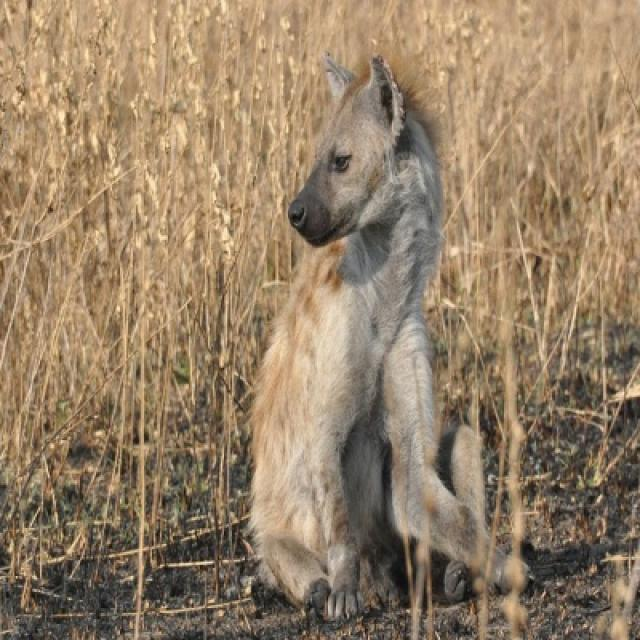hyena: (251, 54, 490, 638)
